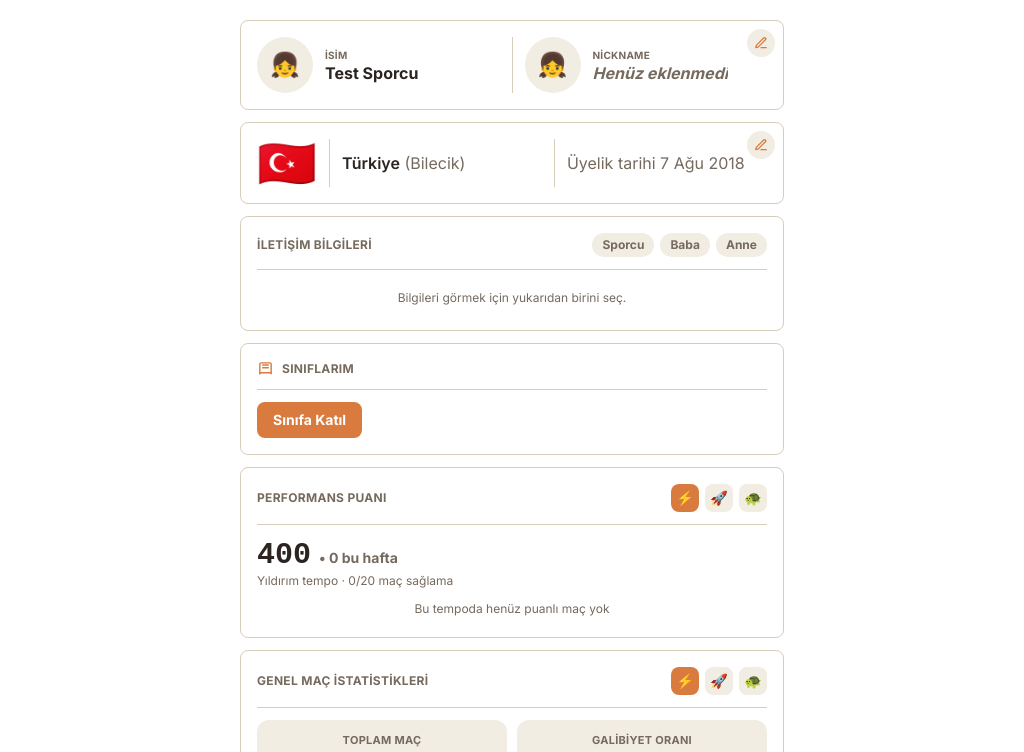
Test: Madde 2026-09-11 (Görsel Turu Aşama B / Madde 3): sporcu profil düzenleme › isim ve e-posta salt-okunur; nickname/ülke-il/iletişim için Düzenle var
Expected: the text "Test Sporcu" is shown, [325,62,418,82]
Expected: the button named "Nickname düzenle" is shown, [747,29,775,57]
Click the button "Sporcu". click: (623, 245)
box: [592,233,654,257]
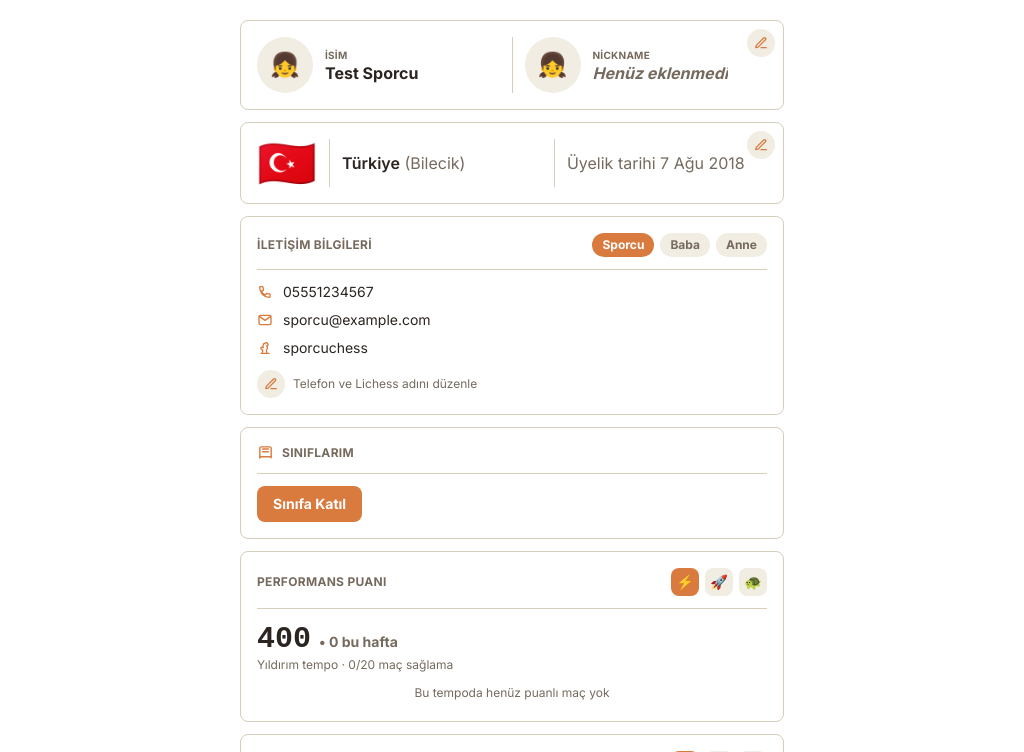
Expected: the button named "İletişim bilgilerini düzenle" is shown
Click the button named "İletişim bilgilerini düzenle". click: (271, 384)
box: [257,370,285,398]
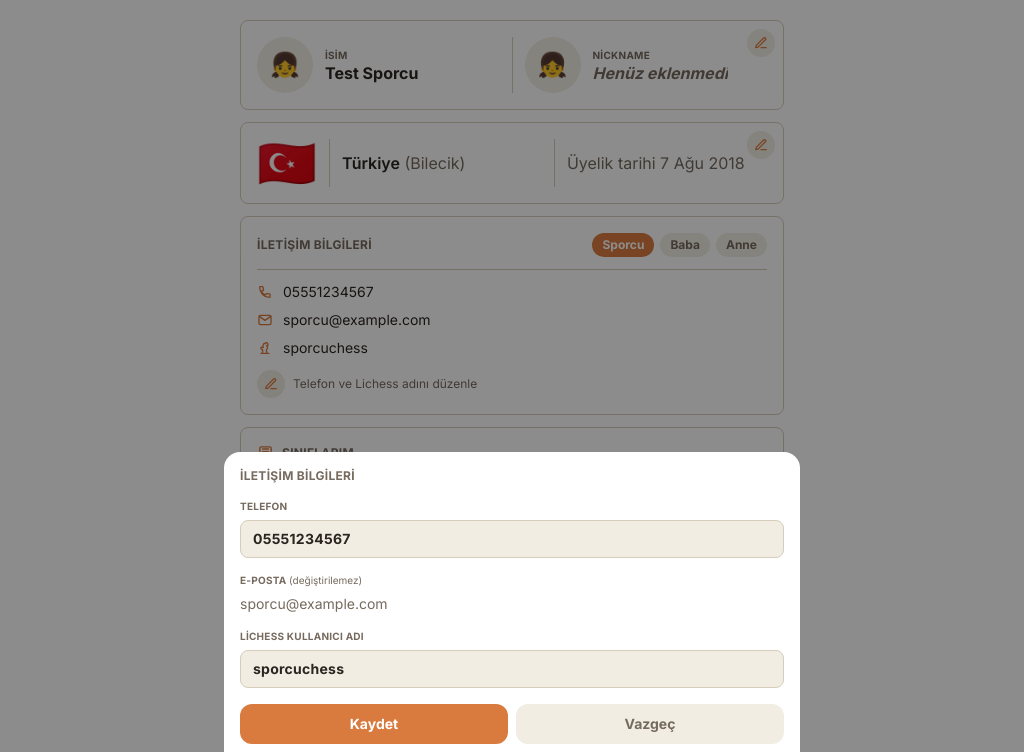
Expected: the text "(değiştirilemez)" is shown, [289,574,362,586]
